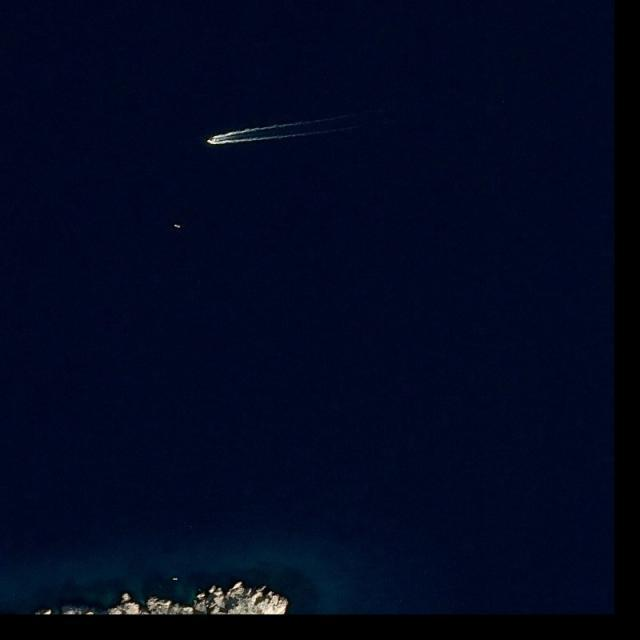ship: (206, 138, 219, 144), (172, 577, 180, 582), (174, 224, 181, 229)
